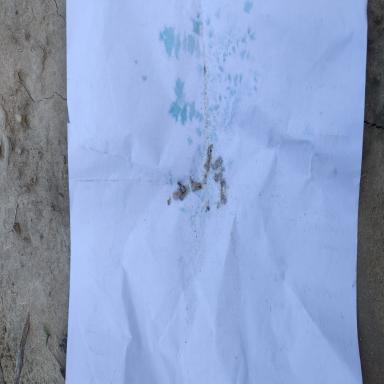pbw: (213, 156, 223, 168), (206, 152, 212, 172), (176, 181, 186, 192), (192, 182, 202, 190), (173, 190, 183, 198), (179, 192, 186, 201)
